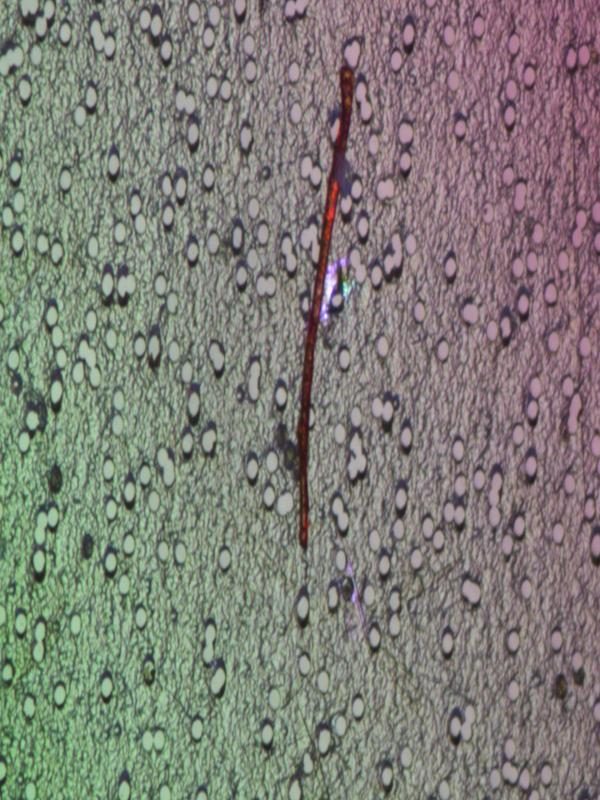microplastic: (0, 0, 600, 800), (295, 61, 358, 550)
